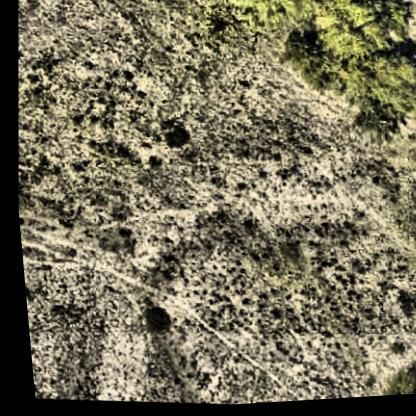tree-top: (340, 49, 416, 151), (306, 0, 414, 68), (277, 34, 335, 98), (217, 0, 308, 26), (373, 365, 416, 400)
